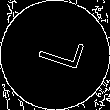L_W: (26, 32, 84, 78)
